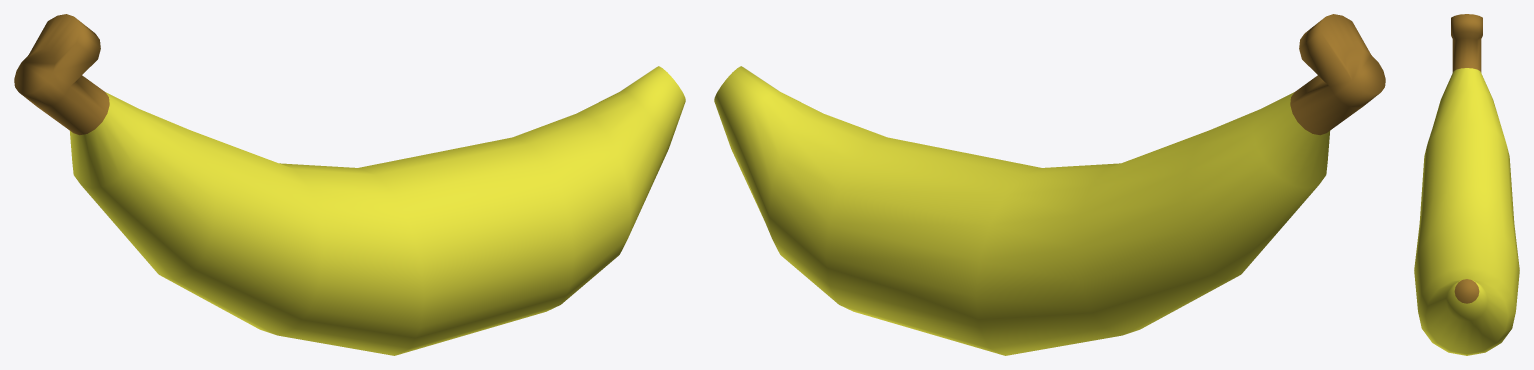
Rendered from Banana.fbx.
The picture shows the model from 3 angles, left to right: view 1: azimuth 30°, elevation 25°; view 2: azimuth 150°, elevation 25°; view 3: azimuth 270°, elevation 25°; orthographic projection. The views are drawn at different scales.
Parts seen in each view (by area): view 1: Cylinder; view 2: Cylinder; view 3: Cylinder.
Part boxes in pixels (x1=…): Cylinder: x1=14, y1=14, x2=685, y2=355; Cylinder: x1=714, y1=14, x2=1385, y2=355; Cylinder: x1=1414, y1=14, x2=1519, y2=355.
Bounding box in the file's own units: 151 × 599 × 351.
